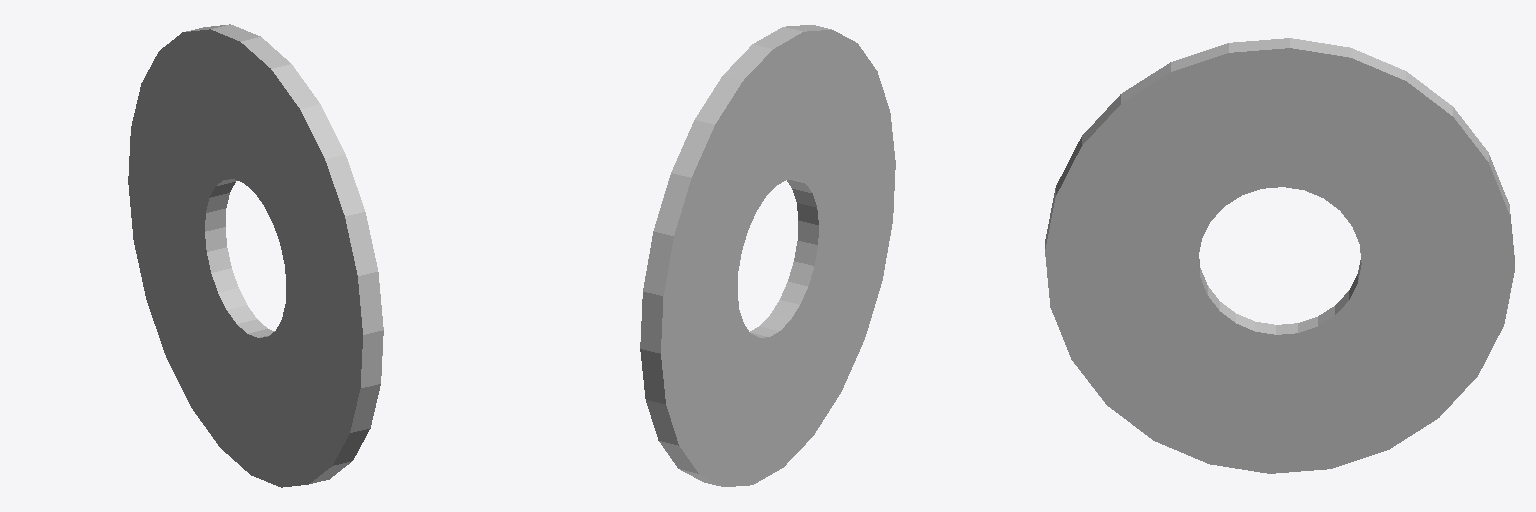
Rendered from original-16.obj.
3 renders of one model, left to right at view 1: azimuth 30°, elevation 25°; view 2: azimuth 150°, elevation 25°; view 3: azimuth 270°, elevation 25°, orthographic.
Parts seen in each view (by area): view 1: Group11/mesh11/mesh11-geometry#mesh11-geometry; view 2: Group11/mesh11/mesh11-geometry#mesh11-geometry; view 3: Group11/mesh11/mesh11-geometry#mesh11-geometry.
Part boxes in pixels (bbox=[...]): Group11/mesh11/mesh11-geometry#mesh11-geometry: bbox=[128, 24, 383, 487]; Group11/mesh11/mesh11-geometry#mesh11-geometry: bbox=[640, 25, 895, 486]; Group11/mesh11/mesh11-geometry#mesh11-geometry: bbox=[1045, 38, 1514, 473].
Bounding box in the file's own units: 0.003 × 0.0588 × 0.0588.